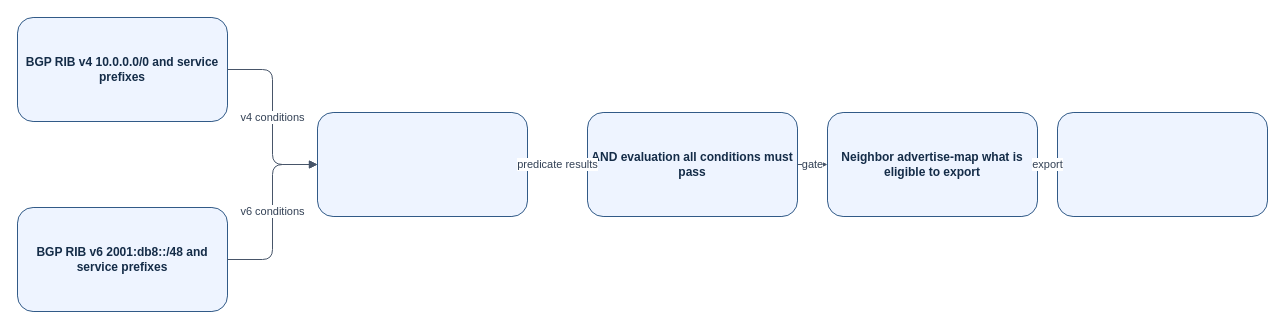
Image size: 1285x329. Some labels were removed from this diagram. Each missing label, with the centre of its shape:
"Condition maps exist / non-exist predicates" belongs at (x=422, y=164).
"Peer update route sent or suppressed" belongs at (x=1162, y=164).
